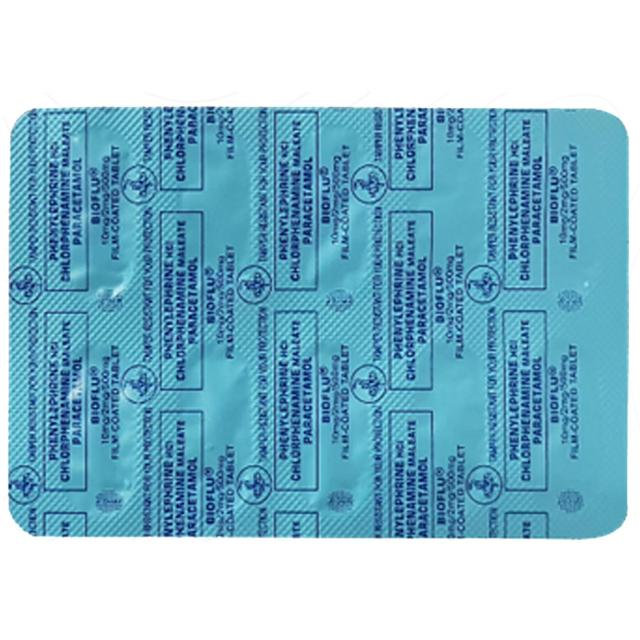blister: (5, 104, 635, 542)
